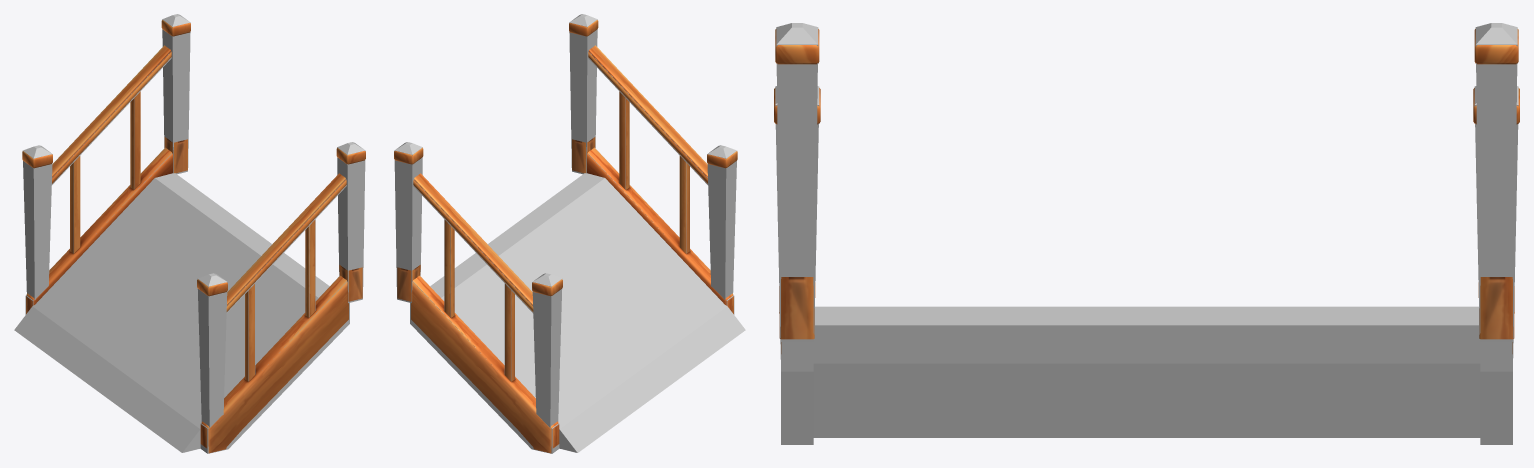
Rendered from SM_PropStairs01TypeC2.fbx.
The picture shows the model from 3 angles, left to right: view 1: azimuth 30°, elevation 25°; view 2: azimuth 150°, elevation 25°; view 3: azimuth 270°, elevation 25°; orthographic projection. The views are drawn at different scales.
Visible parts, largest first — view 1: SM_PropStairs01TypeC2_ConvexHulls, SM_PropStairs01TypeC2; view 2: SM_PropStairs01TypeC2_ConvexHulls, SM_PropStairs01TypeC2; view 3: SM_PropStairs01TypeC2_ConvexHulls, SM_PropStairs01TypeC2.
Boxes of the visible parts, x1,y1,x2,y2 form: SM_PropStairs01TypeC2_ConvexHulls: (14, 14, 365, 453); SM_PropStairs01TypeC2: (22, 20, 365, 453); SM_PropStairs01TypeC2_ConvexHulls: (394, 14, 745, 453); SM_PropStairs01TypeC2: (394, 20, 737, 453); SM_PropStairs01TypeC2_ConvexHulls: (775, 23, 1518, 444); SM_PropStairs01TypeC2: (774, 29, 1519, 353).
Size of the model in its own units: 124 by 229 by 184.
2 materials, 1 textured.
